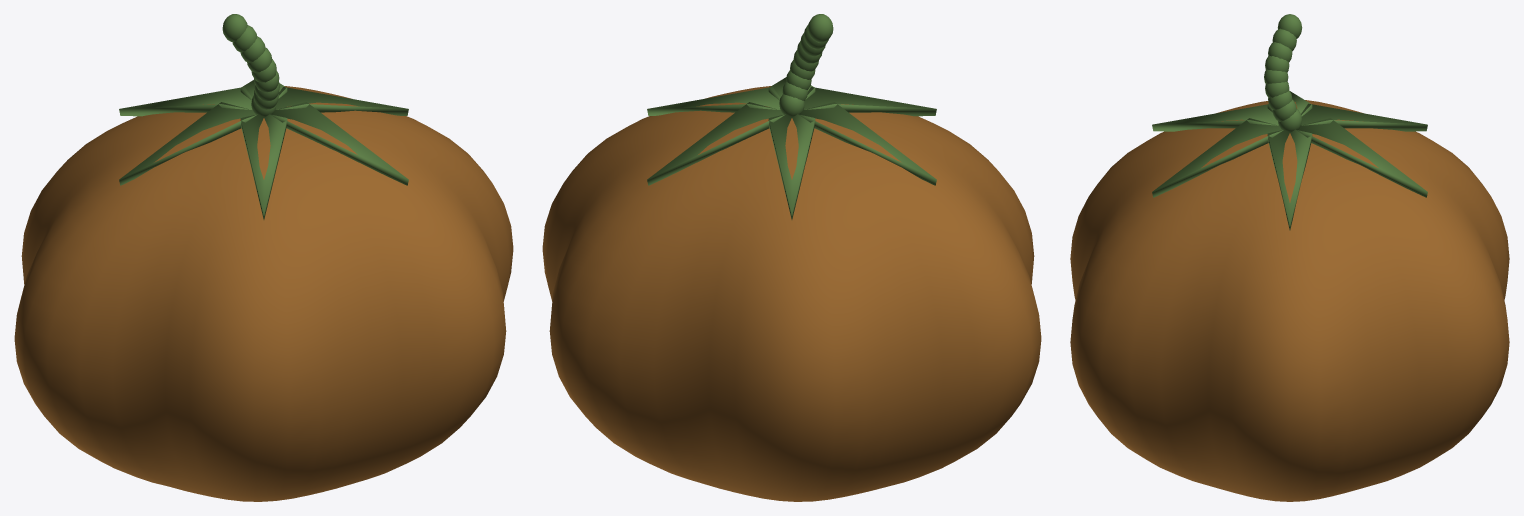
Rendered from rainbow_amber.glb.
3 views of the same model, side by side, from view 1: azimuth 30°, elevation 25°; view 2: azimuth 150°, elevation 25°; view 3: azimuth 270°, elevation 25° (orthographic). The views are drawn at different scales.
Parts seen in each view (by area): view 1: amber archive amber heirloom skin, amber archive Archive calyx; view 2: amber archive amber heirloom skin, amber archive Archive calyx; view 3: amber archive amber heirloom skin, amber archive Archive calyx.
Boxes of the visible parts, box(x1,y1,x2,y2) form: amber archive amber heirloom skin: box(14, 86, 513, 501); amber archive Archive calyx: box(119, 14, 408, 219); amber archive amber heirloom skin: box(542, 86, 1041, 501); amber archive Archive calyx: box(647, 14, 936, 219); amber archive amber heirloom skin: box(1070, 100, 1509, 501); amber archive Archive calyx: box(1152, 14, 1427, 230).
Size of the model in its own units: 1.34 by 1.24 by 1.11.
